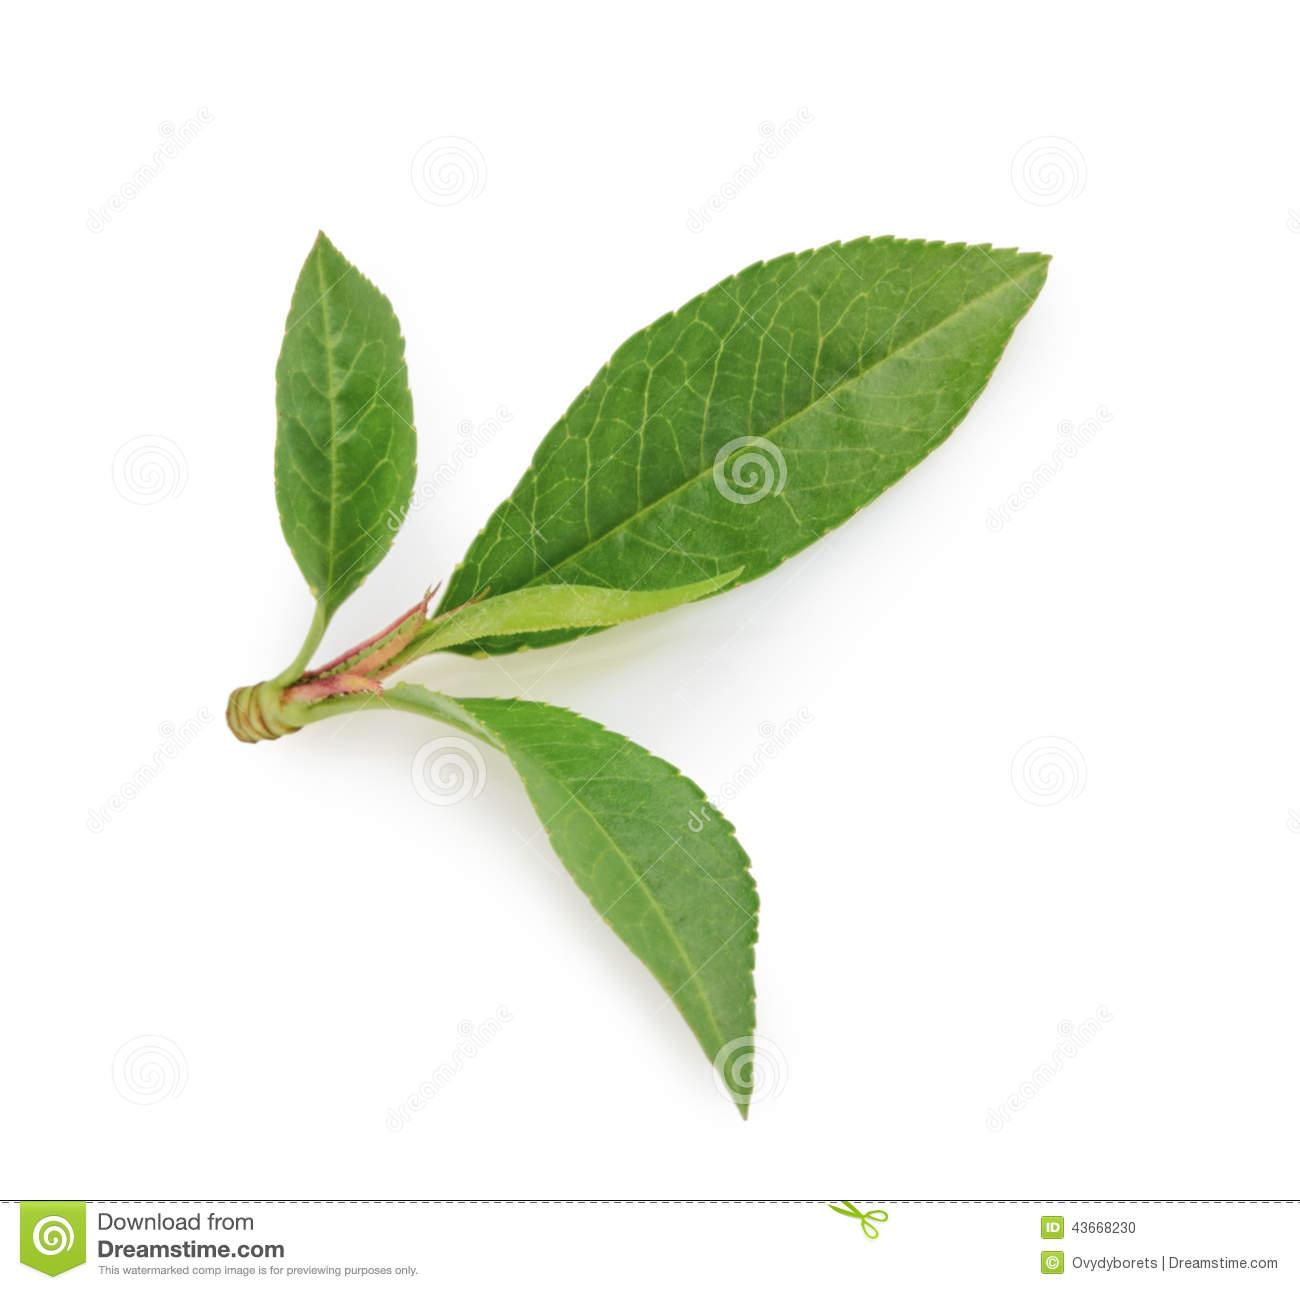Peach leaf: (429, 216, 1086, 644), (385, 680, 760, 1125), (254, 223, 428, 627)
